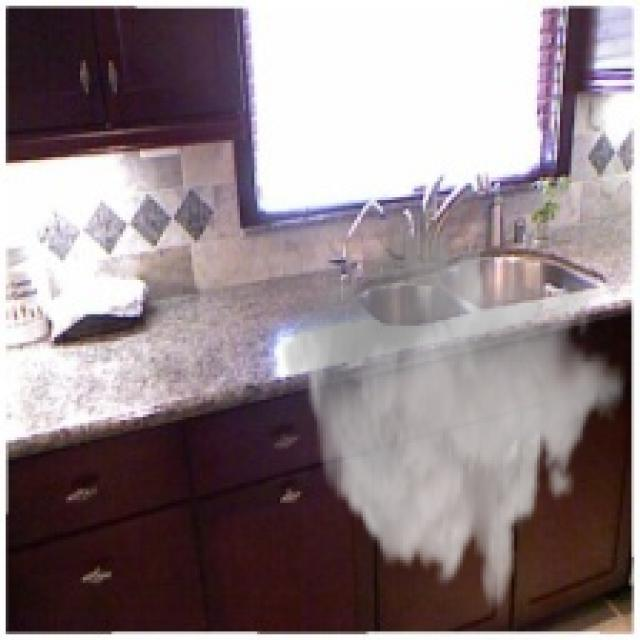smoke: (280, 203, 626, 614)
